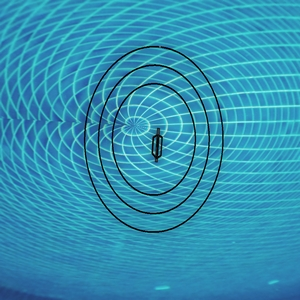circle: (82, 41, 228, 240)
submarine: (150, 129, 162, 162)
